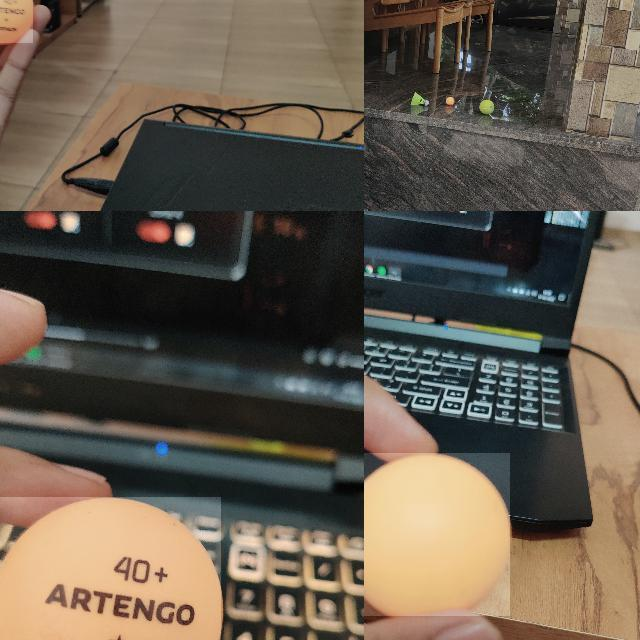ping-pong-ball: (0, 497, 222, 639), (364, 452, 512, 618), (0, 0, 35, 45), (446, 97, 454, 105)
